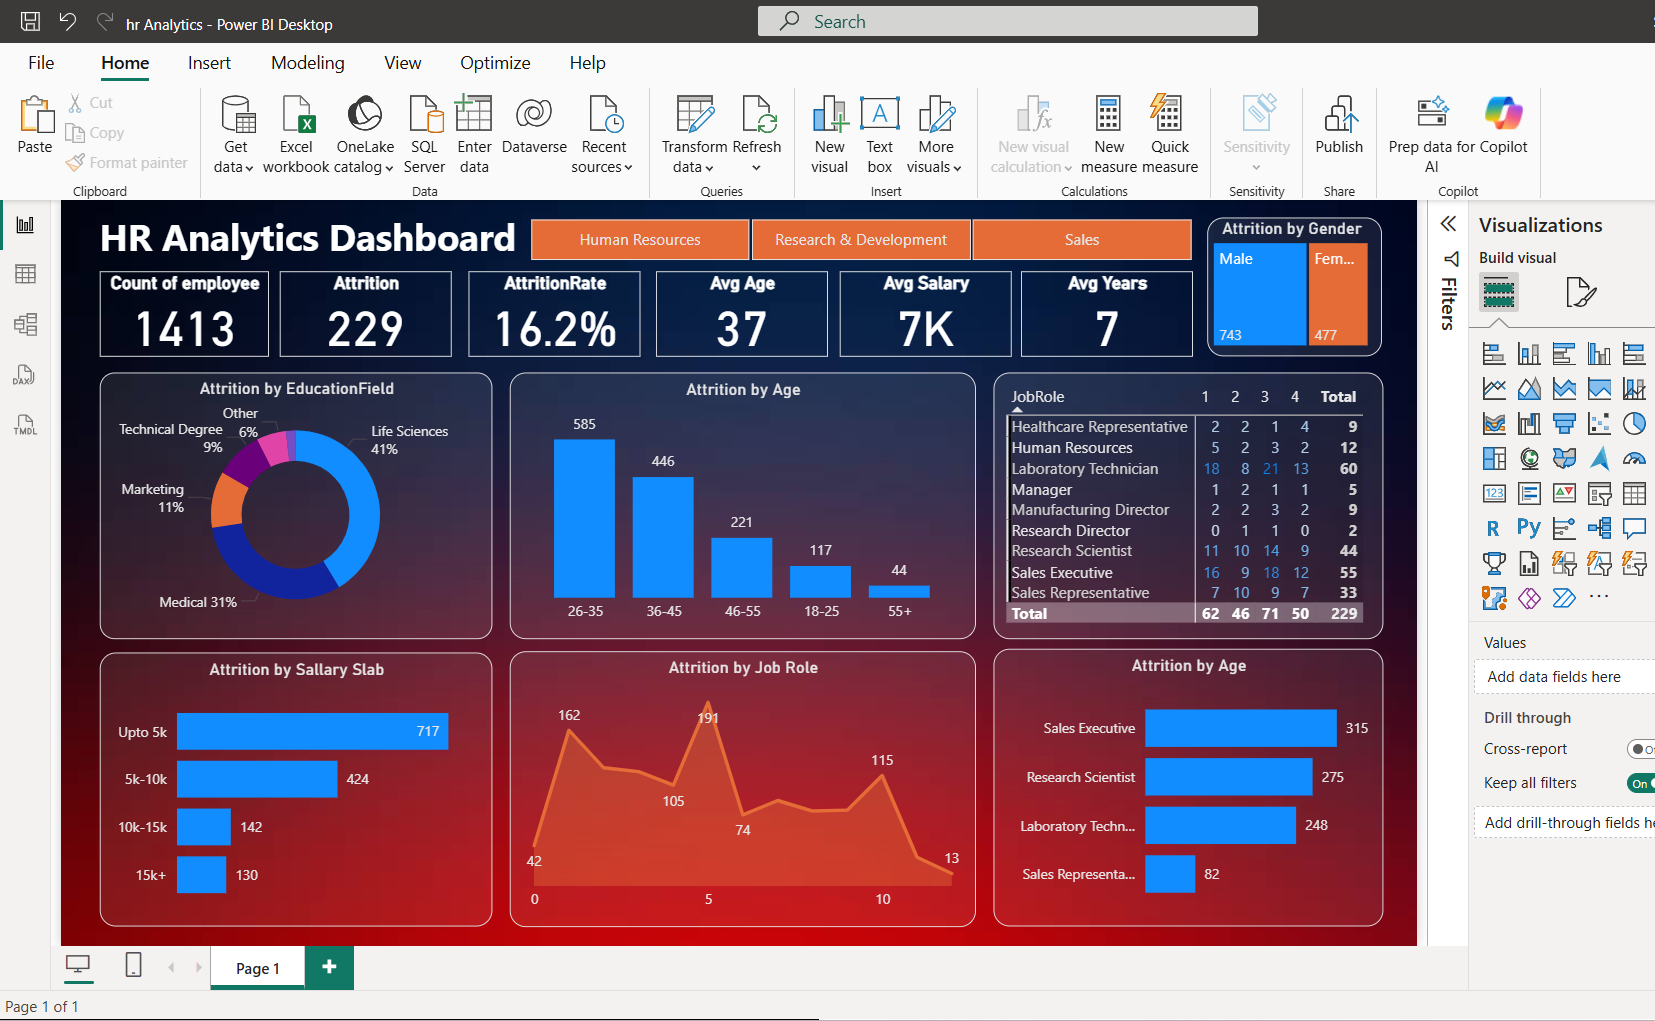

The dashboard page shown, as its layout file describes it:
{"tool":"powerbi","page":{"name":"Page 1","canvas":[1280,720],"ordinal":0},"visuals":[{"type":"card","title":"Count of employee","fields":{"Values":["CountNonNull(HR_Analytics.EmpID)"]},"box":[33.8,61.5,149.6,74.8],"z":0},{"type":"card","title":"Attrition","fields":{"Values":["Sum(HR_Analytics.AttritionCount)"]},"box":[193,61.5,149.6,74.8],"z":1000},{"type":"card","title":"AttritionRate","fields":{"Values":["HR_Analytics.AttritionRate"]},"box":[354.7,61.5,149.6,74.8],"z":2000},{"type":"card","title":"Avg Age","fields":{"Values":["Avg(HR_Analytics.Age)"]},"box":[517.6,61.5,149.6,74.8],"z":3000},{"type":"card","title":"Avg Salary","fields":{"Values":["Avg(HR_Analytics.MonthlyIncome)"]},"box":[678,61.5,149.6,74.8],"z":4000},{"type":"card","title":"Avg Years","fields":{"Values":["Avg(HR_Analytics.YearsAtCompany)"]},"box":[834.9,61.5,149.6,74.8],"z":5000},{"type":"donutChart","title":"Attrition by EducationField","fields":{"Y":["CountNonNull(HR_Analytics.Attrition)"],"Category":["HR_Analytics.EducationField"]},"box":[33.8,149.6,341.4,231.6],"z":6000},{"type":"columnChart","title":"Attrition by Age","fields":{"Y":["CountNonNull(HR_Analytics.Attrition)"],"Category":["HR_Analytics.AgeGroup"]},"box":[390.9,149.6,318.5,231.6],"z":7000},{"type":"pivotTable","fields":{"Rows":["HR_Analytics.JobRole"],"Columns":["HR_Analytics.JobSatisfaction"],"Values":["Sum(HR_Analytics.AttritionCount)"]},"box":[722.7,149.6,339,231.6],"z":8000},{"type":"clusteredBarChart","title":"Attrition by Sallary Slab","fields":{"Category":["HR_Analytics.SalarySlab"],"Y":["CountNonNull(HR_Analytics.Attrition)"]},"box":[36.2,393.3,339,238.9],"z":9000},{"type":"areaChart","title":"Attrition by Job Role","fields":{"Category":["HR_Analytics.YearsAtCompany"],"Y":["CountNonNull(HR_Analytics.Attrition)"]},"box":[403,393.3,319.7,231.6],"z":10000},{"type":"clusteredBarChart","title":"Attrition by Age","fields":{"Category":["HR_Analytics.JobRole"],"Y":["CountNonNull(HR_Analytics.Attrition)"]},"box":[740.8,392.1,339,241.3],"z":11000},{"type":"treemap","title":"Attrition by Gender","fields":{"Values":["CountNonNull(HR_Analytics.Attrition)"],"Group":["HR_Analytics.Gender"]},"box":[992.9,9.7,172.5,126.7],"z":12000},{"type":"slicer","fields":{"Values":["HR_Analytics.Department"]},"box":[382.4,9.7,624.9,49.5],"z":13000},{"type":"textbox","box":[0,9.7,429.5,51.9],"z":14000}]}

Visuals, with their boxes on the page's 1280x720 design canvas (x1, y1, x2, y2). These are canvas units, not pixel positions in the 1655x1021 screenshot, which may show the page scaled, cropped or inside an application window:
"Count of employee" card: (34, 62, 183, 136)
"Attrition" card: (193, 62, 343, 136)
"AttritionRate" card: (355, 62, 504, 136)
"Avg Age" card: (518, 62, 667, 136)
"Avg Salary" card: (678, 62, 828, 136)
"Avg Years" card: (835, 62, 984, 136)
"Attrition by EducationField" donutChart: (34, 150, 375, 381)
"Attrition by Age" columnChart: (391, 150, 709, 381)
pivotTable - HR_Analytics.JobRole x HR_Analytics.JobSatisfaction: (723, 150, 1062, 381)
"Attrition by Sallary Slab" clusteredBarChart: (36, 393, 375, 632)
"Attrition by Job Role" areaChart: (403, 393, 723, 625)
"Attrition by Age" clusteredBarChart: (741, 392, 1080, 633)
"Attrition by Gender" treemap: (993, 10, 1165, 136)
slicer - HR_Analytics.Department: (382, 10, 1007, 59)
textbox: (0, 10, 430, 62)
